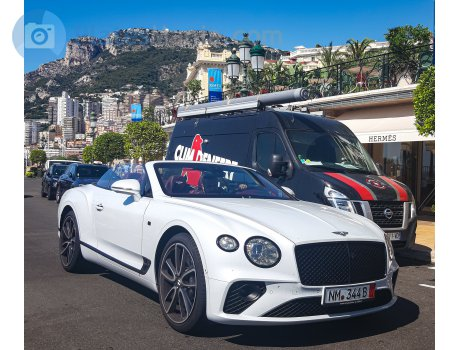License Plates: (325, 283, 372, 299)
